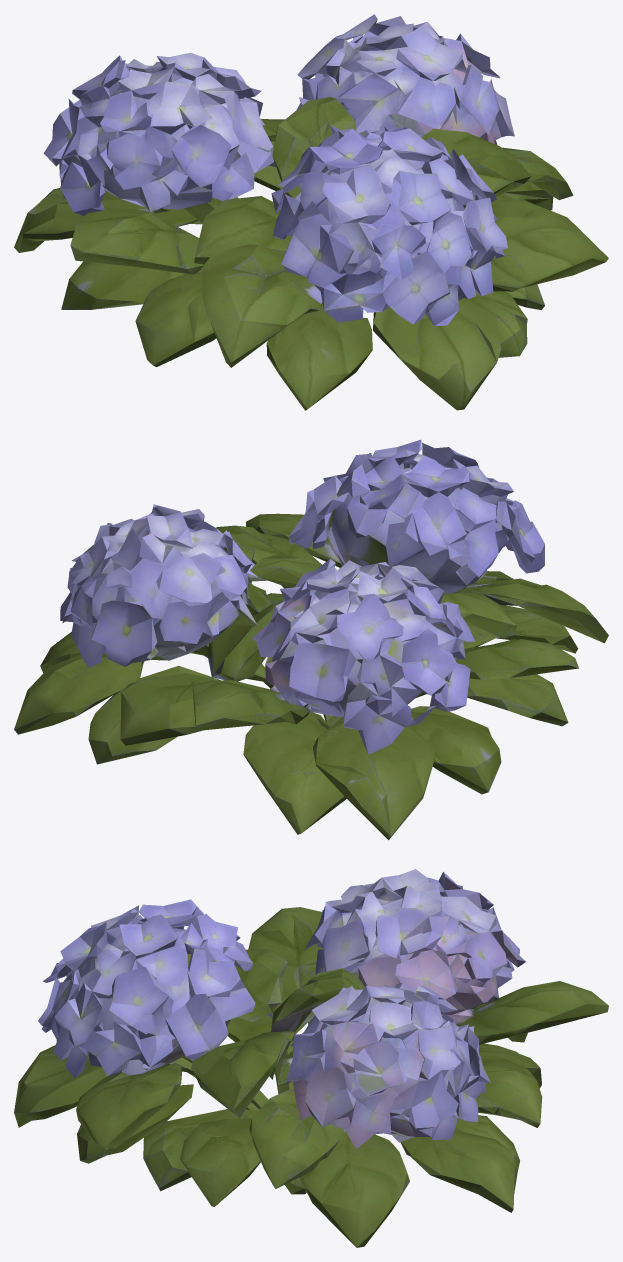
Rendered from model-village-hydrangea-62e2f65133c9.glb.
3 views of the same model, one above another, from view 1: azimuth 30°, elevation 25°; view 2: azimuth 150°, elevation 25°; view 3: azimuth 270°, elevation 25° (orthographic). The views are drawn at different scales.
Parts seen in each view (by area): view 1: Mesh_0; view 2: Mesh_0; view 3: Mesh_0.
Boxes of the visible parts, bbox=[...] form: Mesh_0: bbox=[14, 14, 608, 410]; Mesh_0: bbox=[14, 439, 608, 840]; Mesh_0: bbox=[14, 869, 608, 1247].
Bounding box in the file's own units: 1.13 × 0.53 × 1.2.
1 material, 1 textured.
